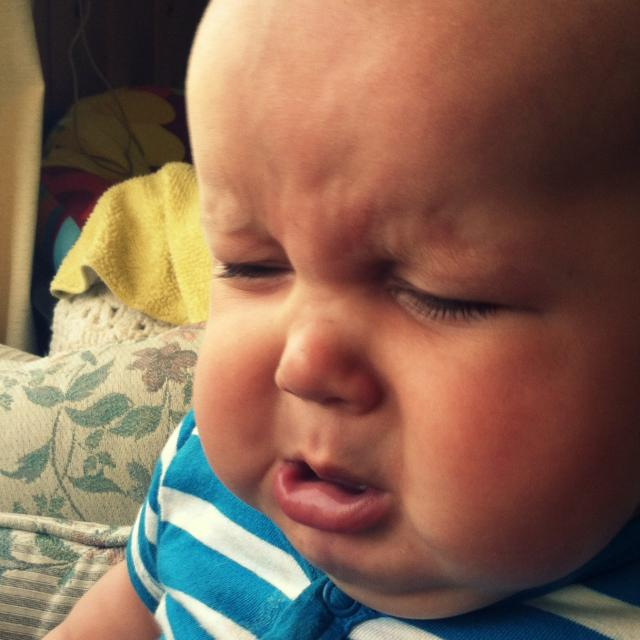Depress: (190, 0, 640, 611)
